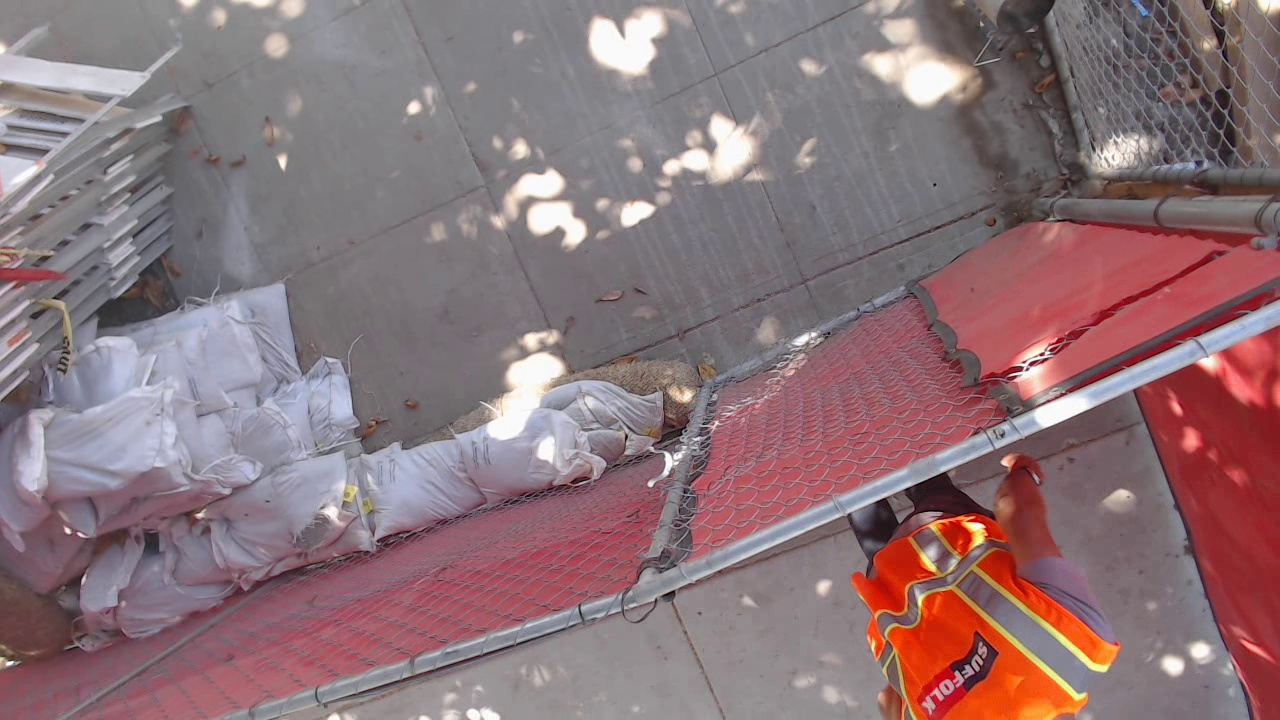person: (849, 513, 1121, 720)
safetyvest: (851, 513, 1123, 720)
